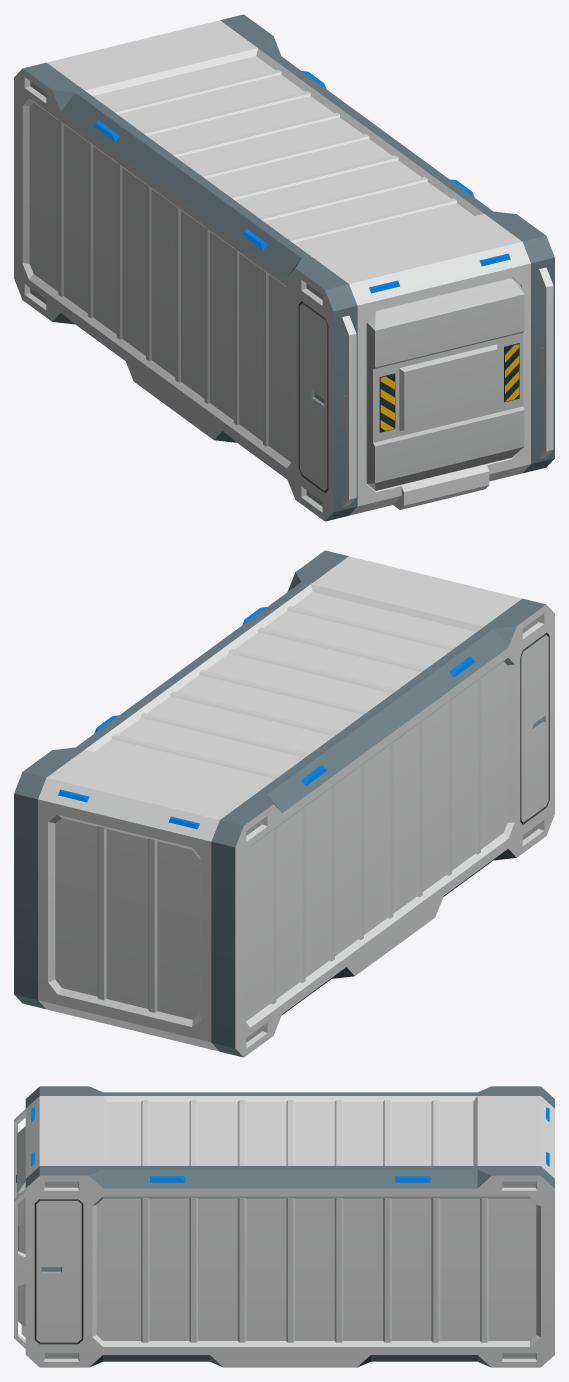
Rendered from Container_type_A_005.glb.
3 views of the same model, one above another, from view 1: azimuth 30°, elevation 25°; view 2: azimuth 150°, elevation 25°; view 3: azimuth 270°, elevation 25° (orthographic). The views are drawn at different scales.
Visible parts, largest first — view 1: Container_type_A_005, Container_type_A_door_004; view 2: Container_type_A_005; view 3: Container_type_A_005, Container_type_A_door_004.
Boxes of the visible parts, <box> form: Container_type_A_005: <box>14,14,554,521</box>; Container_type_A_door_004: <box>366,278,524,490</box>; Container_type_A_005: <box>14,550,554,1057</box>; Container_type_A_005: <box>14,1086,554,1367</box>; Container_type_A_door_004: <box>15,1126,25,1327</box>.
Bounding box in the file's own units: 2.4 × 2.4 × 6.13.
2 materials, 2 textured.
